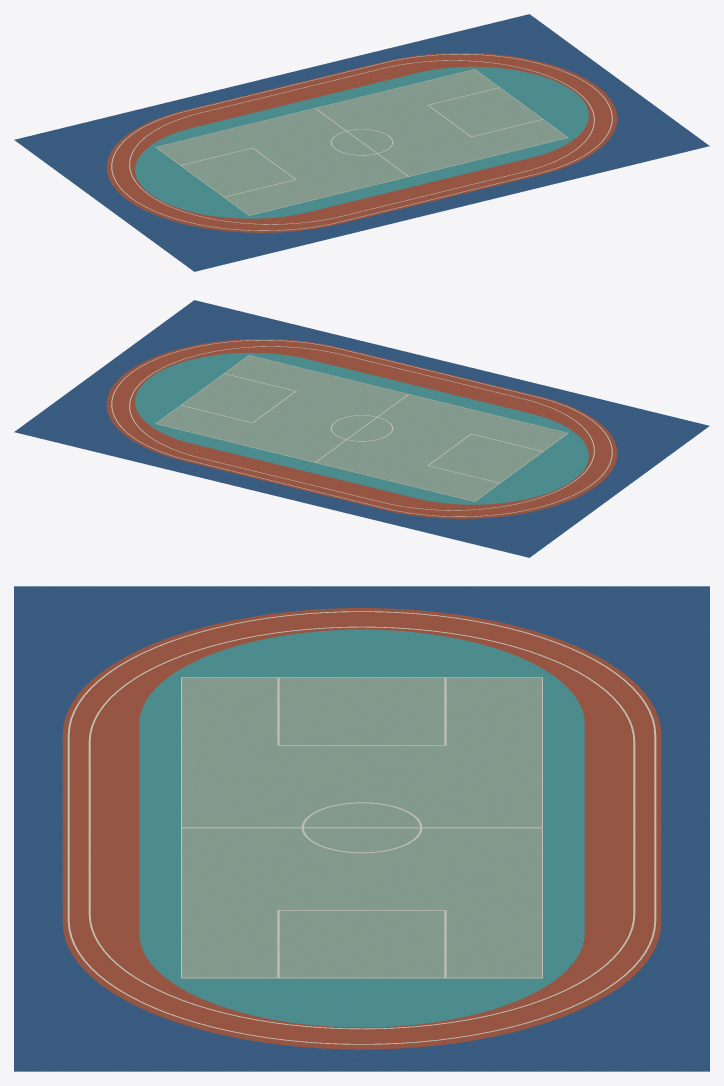
The model's file is SM_QD_GroundDetail_SchoolSport.fbx.
3 renders of one model, top to bottom at view 1: azimuth 30°, elevation 25°; view 2: azimuth 150°, elevation 25°; view 3: azimuth 270°, elevation 25°, orthographic. The views are drawn at different scales.
Parts seen in each view (by area): view 1: SM_QD_GroundDetail_SchoolSport; view 2: SM_QD_GroundDetail_SchoolSport; view 3: SM_QD_GroundDetail_SchoolSport.
Boxes of the visible parts, x1,y1,x2,y2 form: SM_QD_GroundDetail_SchoolSport: (14,14,709,271); SM_QD_GroundDetail_SchoolSport: (14,300,709,557); SM_QD_GroundDetail_SchoolSport: (14,586,709,1071).
Size of the model in its own units: 14.42 by 8.74 by 0.016.
5 materials, 5 textured.
